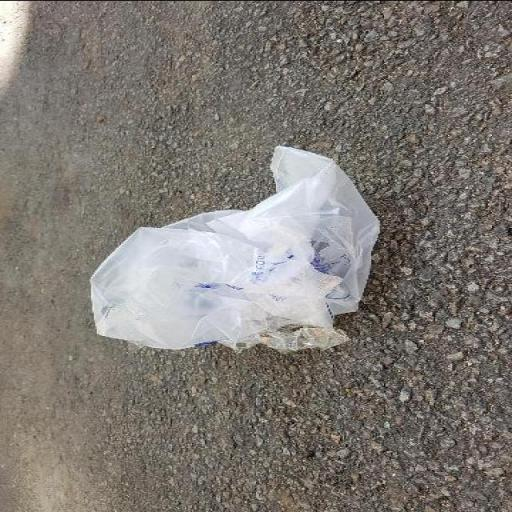plastic-bag: (84, 144, 382, 354)
